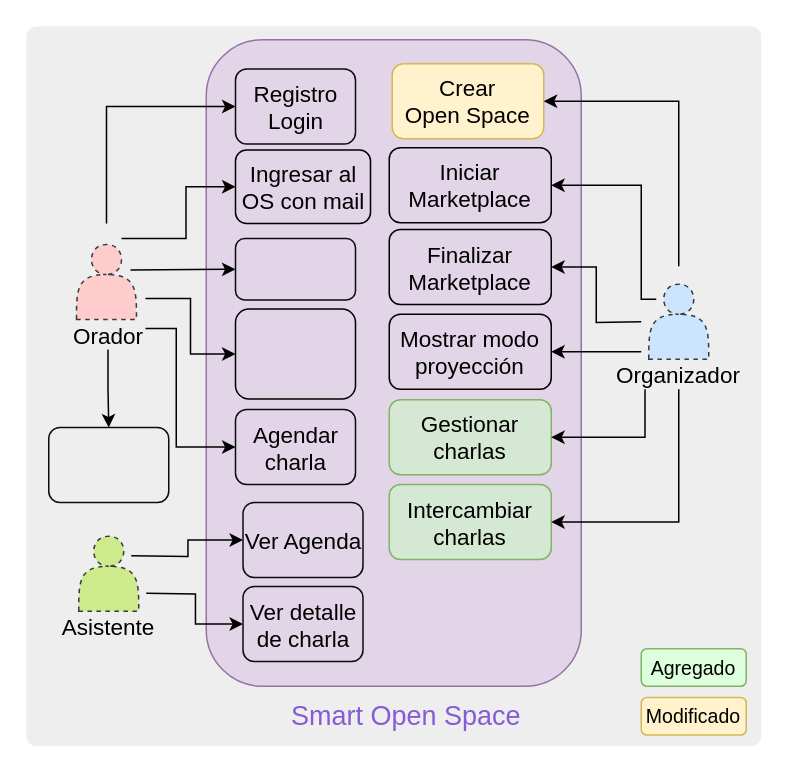
Some shapes in this 786 by 771 pixel diagram are drawn without their labels. Here are the shapes that lost their labels. From the top down, the centre of each, then its label:
At point (295, 268): "Cargar charla".
At point (295, 353): "Encolarse para exponer".
At point (108, 464): "Exponer".
